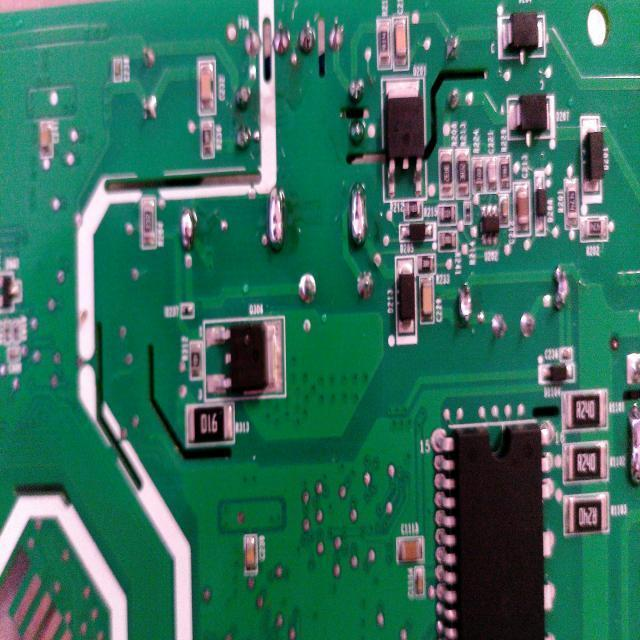Soldering shorted: (348, 175, 371, 252), (266, 184, 288, 256), (178, 206, 199, 256), (552, 263, 569, 323), (460, 278, 474, 336)
